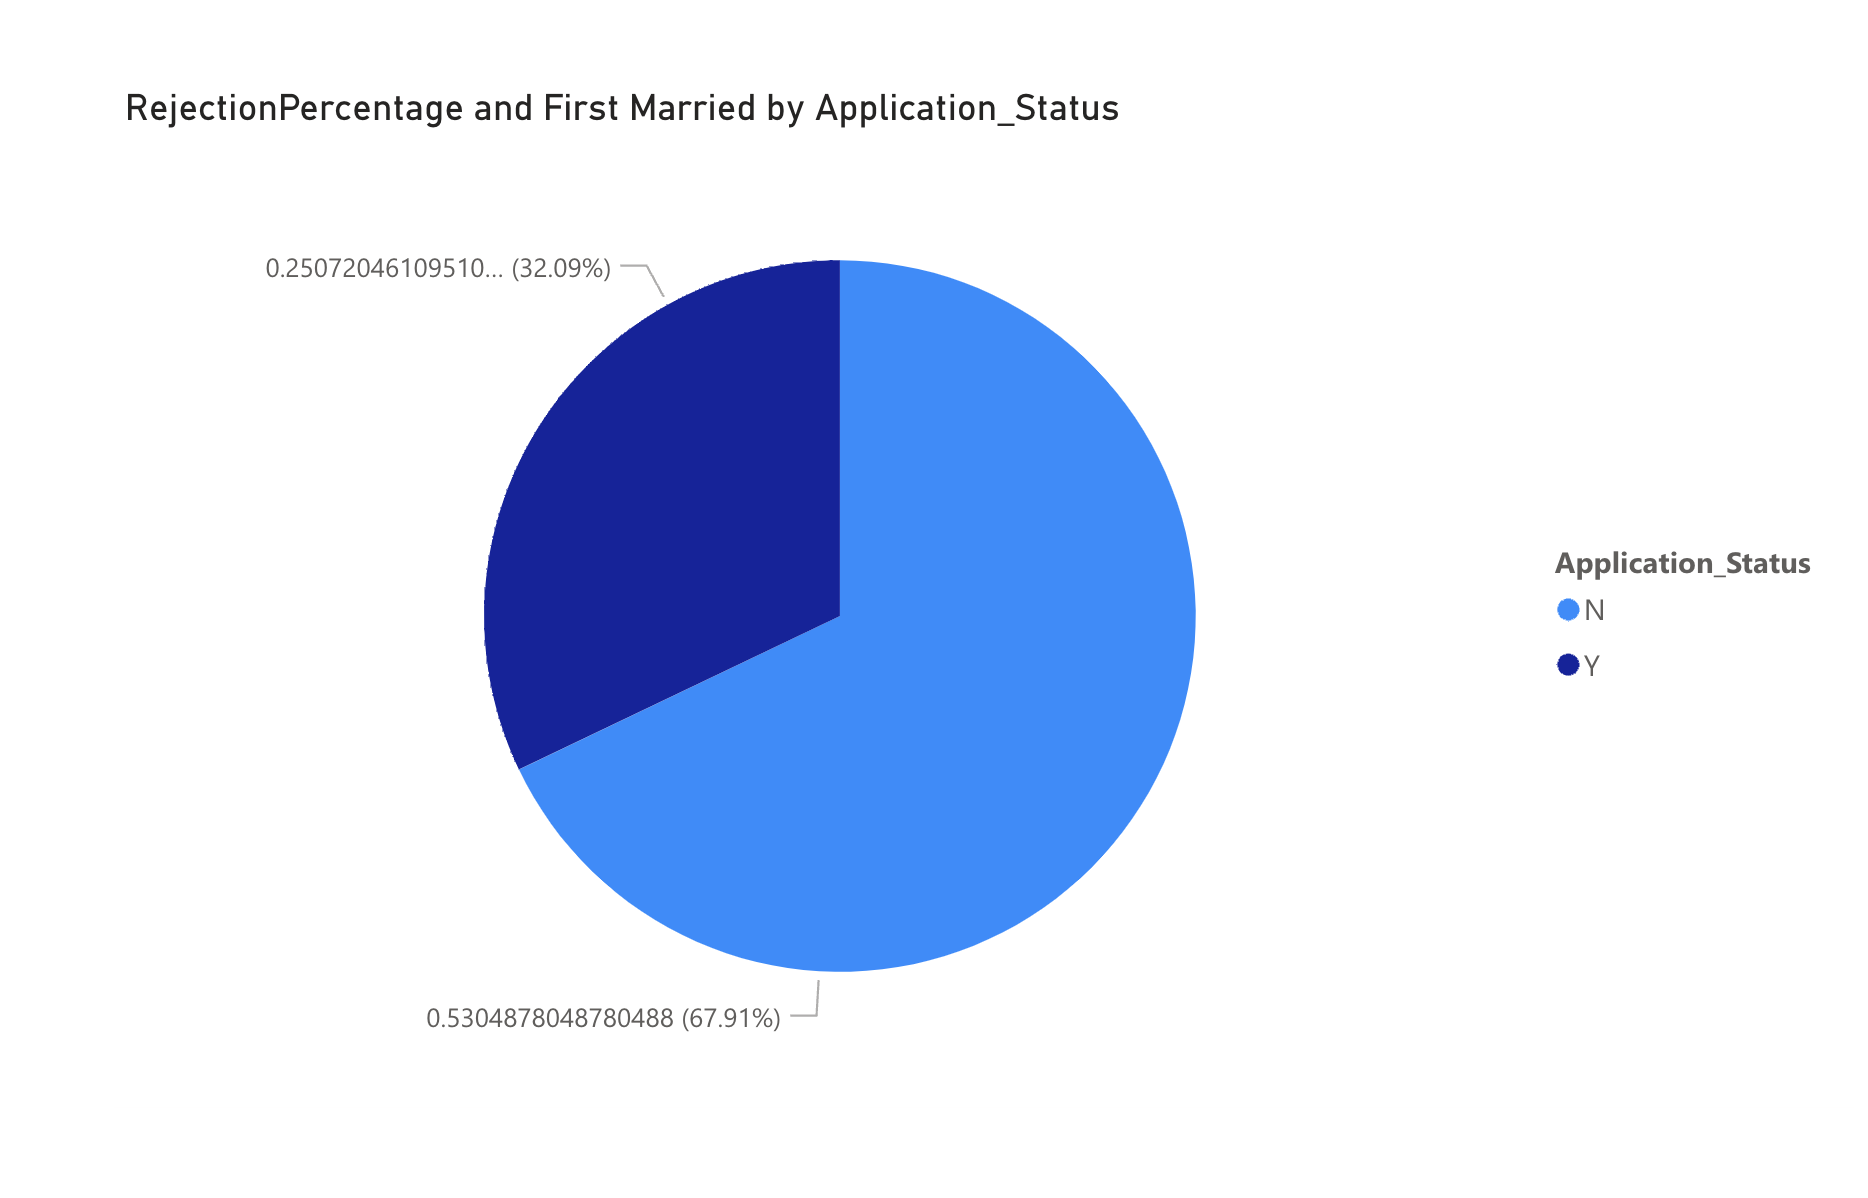

What the dashboard file says about the page in this screenshot:
{"tool":"powerbi","page":{"name":"5.3","canvas":[1280,720],"ordinal":4},"visuals":[{"type":"pieChart","fields":{"Y":["cdw_sapp_credit.RejectionPercentage"],"Series":["cdw_sapp_loan_data.Application_Status"]},"box":[70.9,72.7,790.9,462.7],"z":0}]}

Visuals, with their boxes on the page's 1280x720 design canvas (x1, y1, x2, y2). These are canvas units, not pixel positions in the 1868x1198 screenshot, which may show the page scaled, cropped or inside an application window:
pieChart - cdw_sapp_credit.RejectionPercentage x cdw_sapp_loan_data.Application_Status: rect(71, 73, 862, 535)
